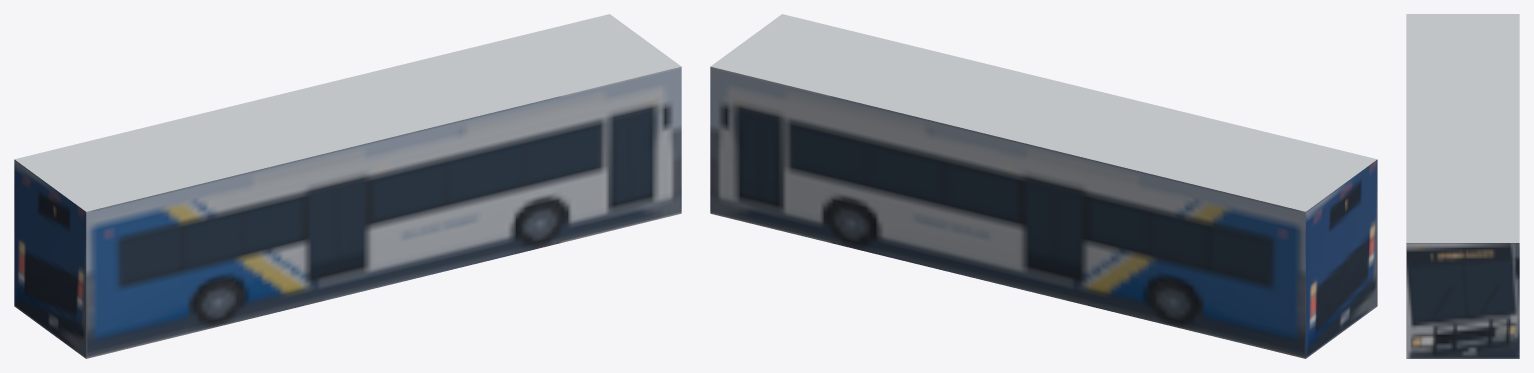
File: bus-mid.glb
3 renders of one model, left to right at view 1: azimuth 30°, elevation 25°; view 2: azimuth 150°, elevation 25°; view 3: azimuth 270°, elevation 25°, orthographic. The views are drawn at different scales.
Visible parts, largest first — view 1: bus; view 2: bus; view 3: bus.
Part boxes in pixels (x1,y1,x2,y2): bus: (14,14,681,358); bus: (710,14,1377,358); bus: (1406,14,1519,358).
Size of the model in its own units: 12.2 by 2.88 by 2.55.
1 material, 1 textured.
